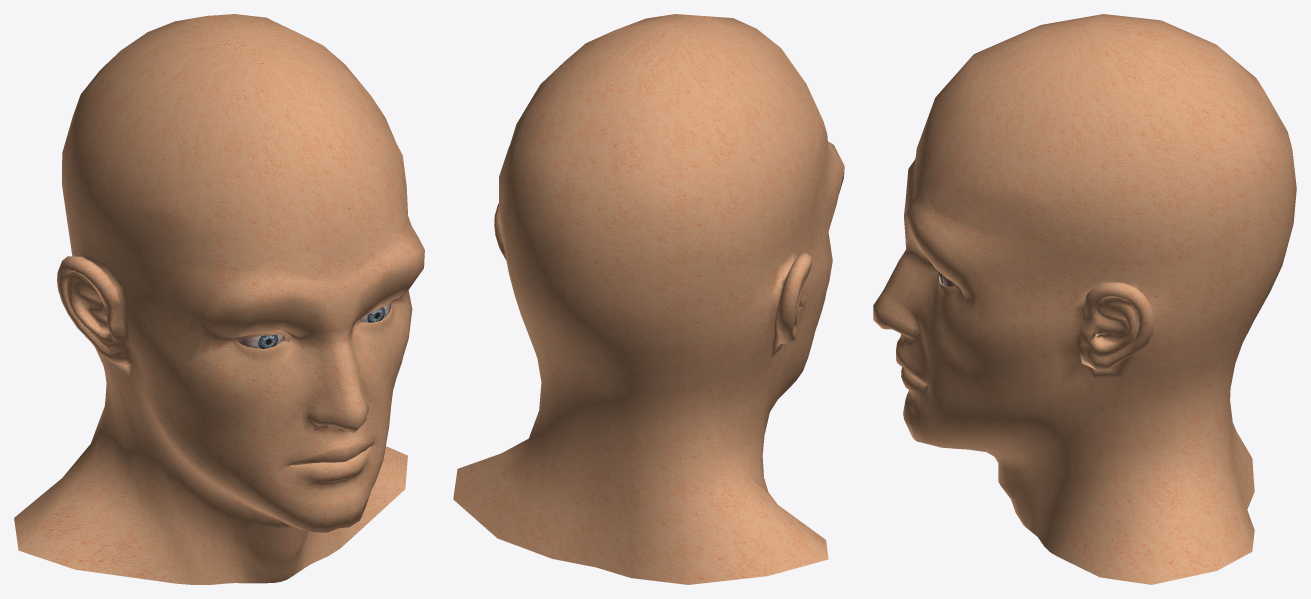
The model's file is surprised.FBX.
3 renders of one model, left to right at view 1: azimuth 30°, elevation 25°; view 2: azimuth 150°, elevation 25°; view 3: azimuth 270°, elevation 25°, orthographic. The views are drawn at different scales.
Visible parts, largest first — view 1: head; view 2: head; view 3: head.
Part boxes in pixels (<box>): head: <box>14,14,424,584</box>; head: <box>453,14,844,584</box>; head: <box>873,14,1296,584</box>.
Bounding box in the file's own units: 44.22 × 43.6 × 56.51.
4 materials, 2 textured.
